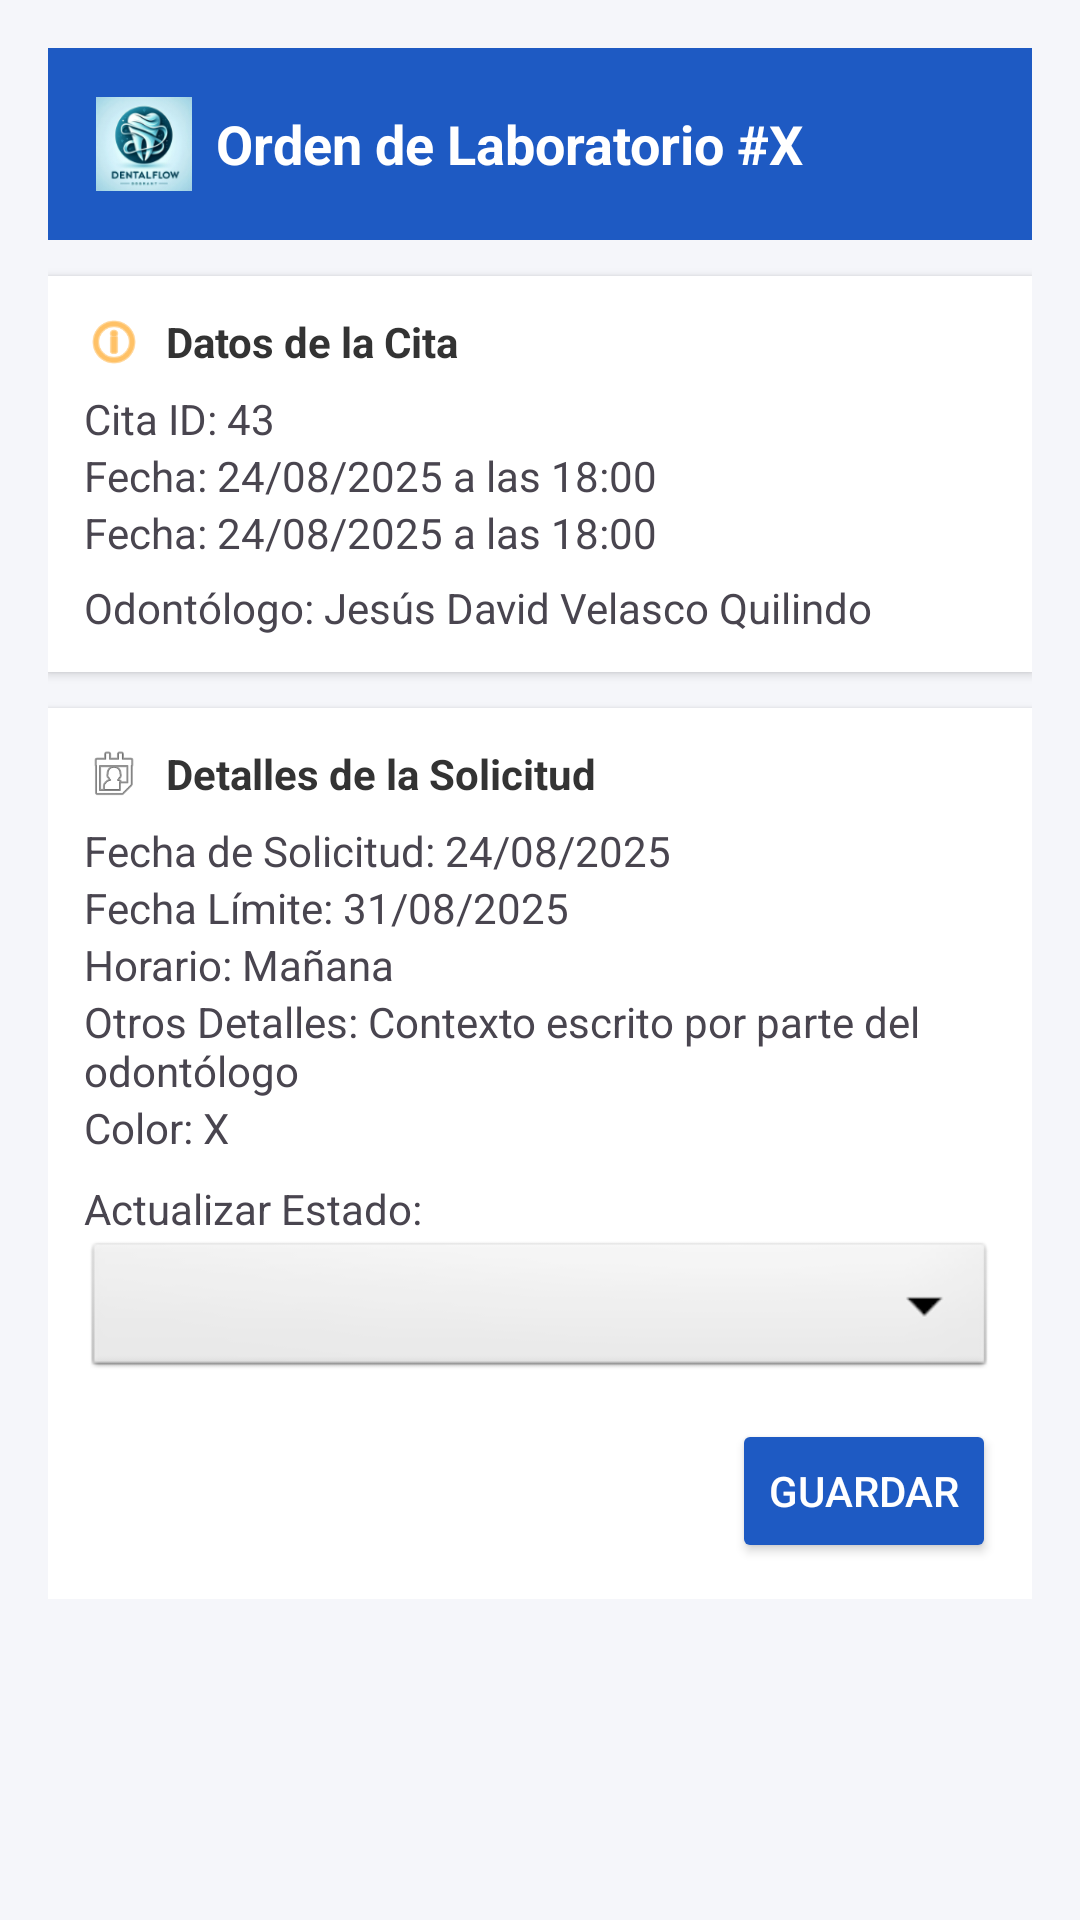

Icons on this 1080w x 1920h Android screen, each with the point to tap as (x=x, y=y):
calendar: (x=114, y=773)
info details: (x=114, y=342)
